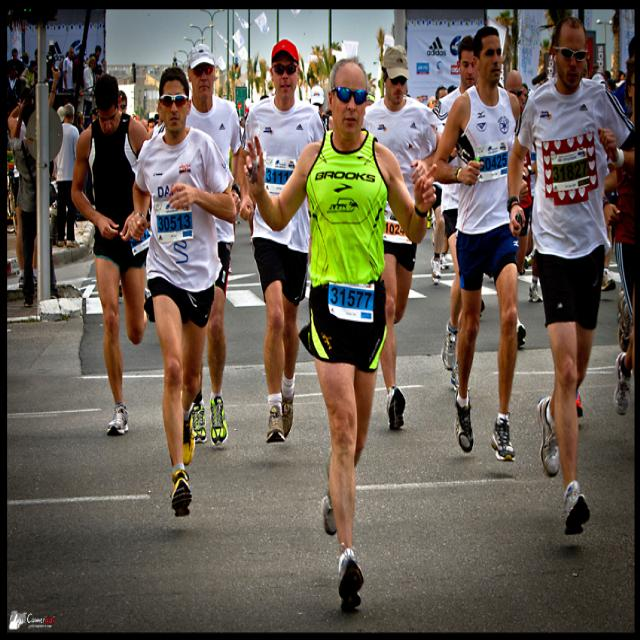Bib: (550, 156, 592, 188), (332, 288, 376, 313), (156, 212, 194, 233), (478, 150, 509, 172), (382, 217, 406, 240), (266, 164, 290, 186)
